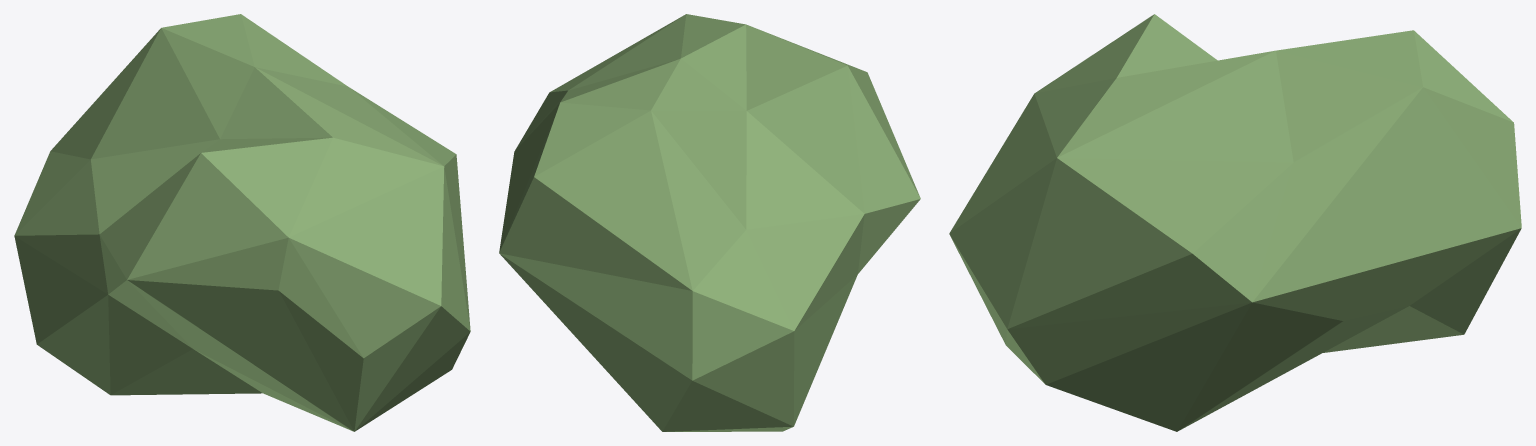
File: Rock_B_003.fbx
3 renders of one model, left to right at view 1: azimuth 30°, elevation 25°; view 2: azimuth 150°, elevation 25°; view 3: azimuth 270°, elevation 25°, orthographic. The views are drawn at different scales.
Parts seen in each view (by area): view 1: Rock B.003; view 2: Rock B.003; view 3: Rock B.003.
Boxes of the visible parts, x1=… form: Rock B.003: x1=14, y1=14, x2=470, y2=431; Rock B.003: x1=499, y1=14, x2=920, y2=431; Rock B.003: x1=949, y1=14, x2=1521, y2=431.
Bounding box in the file's own units: 45.28 × 39.04 × 56.69.
